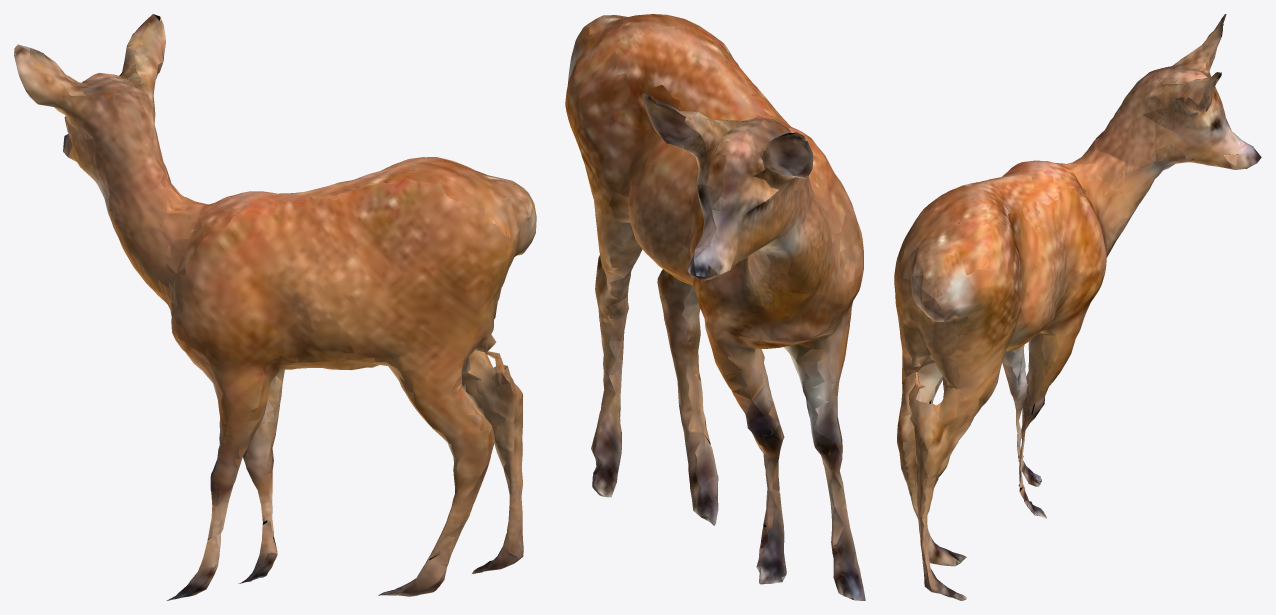
Rendered from generated_model.glb.
3 views of the same model, side by side, from view 1: azimuth 30°, elevation 25°; view 2: azimuth 150°, elevation 25°; view 3: azimuth 270°, elevation 25° (orthographic). The views are drawn at different scales.
Visible parts, largest first — view 1: world; view 2: world; view 3: world.
Boxes of the visible parts, x1=… form: world: x1=14, y1=14, x2=536, y2=600; world: x1=565, y1=14, x2=865, y2=600; world: x1=894, y1=14, x2=1261, y2=600.
Size of the model in its own units: 0.5527 by 0.728 by 0.5407.
Materials: 1 (1 with a texture image).
